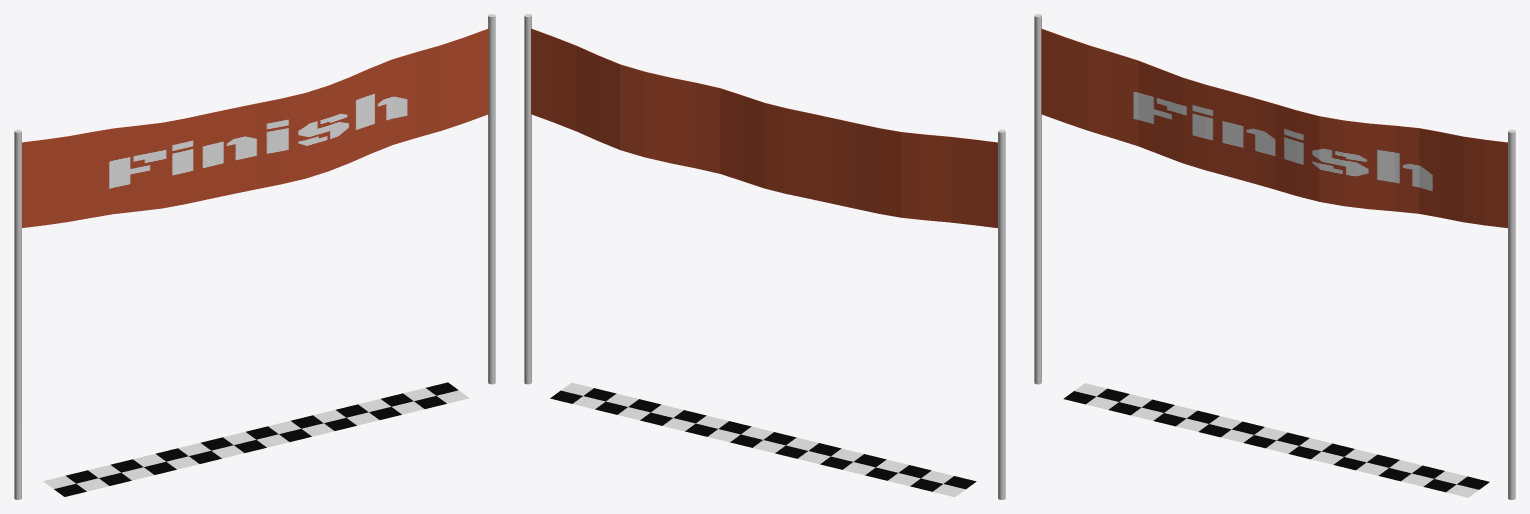
File: KR_Model_FinishLine_Red_Vang.fbx
3 views of the same model, side by side, from view 1: azimuth 30°, elevation 25°; view 2: azimuth 150°, elevation 25°; view 3: azimuth 330°, elevation 25° (orthographic).
Visible parts, largest first — view 1: Finish29, pPlane34, pCylinder65, pCylinder66; view 2: Finish29, pPlane34, pCylinder65, pCylinder66; view 3: Finish29, pPlane34, pCylinder65, pCylinder66.
Boxes of the visible parts, x1=… form: Finish29: x1=22, y1=28, x2=488, y2=227; pPlane34: x1=43, y1=382, x2=469, y2=496; pCylinder65: x1=14, y1=129, x2=21, y2=499; pCylinder66: x1=488, y1=14, x2=495, y2=384; Finish29: x1=531, y1=28, x2=997, y2=228; pPlane34: x1=550, y1=382, x2=976, y2=497; pCylinder65: x1=998, y1=129, x2=1005, y2=499; pCylinder66: x1=524, y1=14, x2=531, y2=384; Finish29: x1=1041, y1=28, x2=1507, y2=228; pPlane34: x1=1063, y1=383, x2=1489, y2=497; pCylinder65: x1=1034, y1=14, x2=1041, y2=384; pCylinder66: x1=1508, y1=129, x2=1515, y2=499.
Size of the model in its own units: 42.56 by 31.09 by 3.34.
4 materials, 2 textured.
